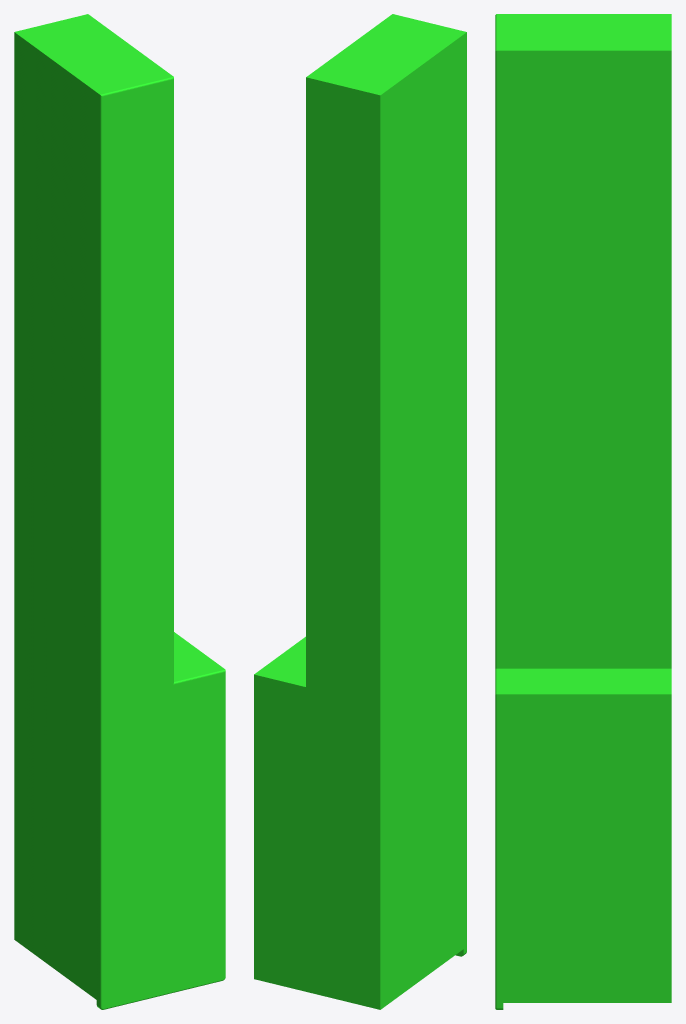
Rendered from Kbdnatc.obj.
3 views of the same model, side by side, from view 1: azimuth 30°, elevation 25°; view 2: azimuth 150°, elevation 25°; view 3: azimuth 270°, elevation 25° (orthographic). The views are drawn at different scales.
Visible parts, largest first — view 1: Kbdnatc; view 2: Kbdnatc; view 3: Kbdnatc.
Part boxes in pixels (<box>): Kbdnatc: <box>14,14,225,1009</box>; Kbdnatc: <box>254,14,466,1009</box>; Kbdnatc: <box>495,14,671,1009</box>.
Bounding box in the file's own units: 0.1535 × 1.07 × 0.1833.
